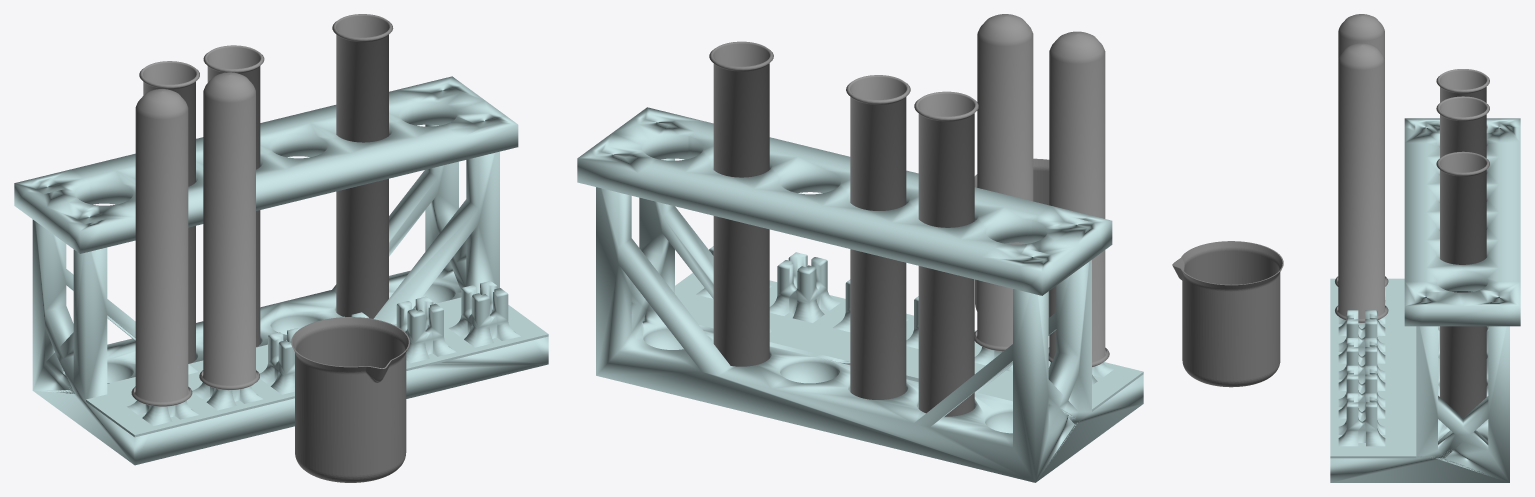
File: Toxicology.gltf
The picture shows the model from 3 angles, left to right: view 1: azimuth 30°, elevation 25°; view 2: azimuth 150°, elevation 25°; view 3: azimuth 270°, elevation 25°; orthographic projection. The views are drawn at different scales.
Parts seen in each view (by area): view 1: Test Tube Rack Base, Test Tube Rack Top, Original, Cylinder.003, Cylinder.004, Cylinder.002, Cylinder.001, Cylinder; view 2: Test Tube Rack Base, Test Tube Rack Top, Cylinder, Cylinder.002, Cylinder.001, Cylinder.004, Cylinder.003, Original; view 3: Test Tube Rack Base, Test Tube Rack Top, Original, Cylinder.004, Cylinder.002, Cylinder, Cylinder.003, Cylinder.001.
Boxes of the visible parts, x1,y1,x2,y2 form: Test Tube Rack Base: [32, 124, 548, 465]; Test Tube Rack Top: [14, 76, 518, 253]; Original: [291, 317, 409, 482]; Cylinder.003: [131, 89, 192, 406]; Cylinder.004: [199, 72, 259, 390]; Cylinder.002: [332, 14, 393, 318]; Cylinder.001: [139, 61, 199, 363]; Cylinder: [203, 45, 264, 346]; Test Tube Rack Base: [596, 158, 1143, 482]; Test Tube Rack Top: [577, 107, 1112, 295]; Cylinder: [846, 75, 910, 399]; Cylinder.002: [709, 41, 773, 366]; Cylinder.001: [914, 91, 978, 416]; Cylinder.004: [974, 14, 1033, 351]; Cylinder.003: [1048, 31, 1109, 366]; Original: [974, 158, 1049, 317]; Test Tube Rack Base: [1330, 278, 1509, 482]; Test Tube Rack Top: [1404, 118, 1520, 326]; Original: [1172, 241, 1283, 387]; Cylinder.004: [1335, 43, 1388, 322]; Cylinder.002: [1436, 151, 1489, 418]; Cylinder: [1436, 96, 1489, 157]; Cylinder.003: [1335, 14, 1388, 286]; Cylinder.001: [1436, 69, 1489, 102].
Size of the model in its own units: 6.15 by 4.79 by 4.81.
